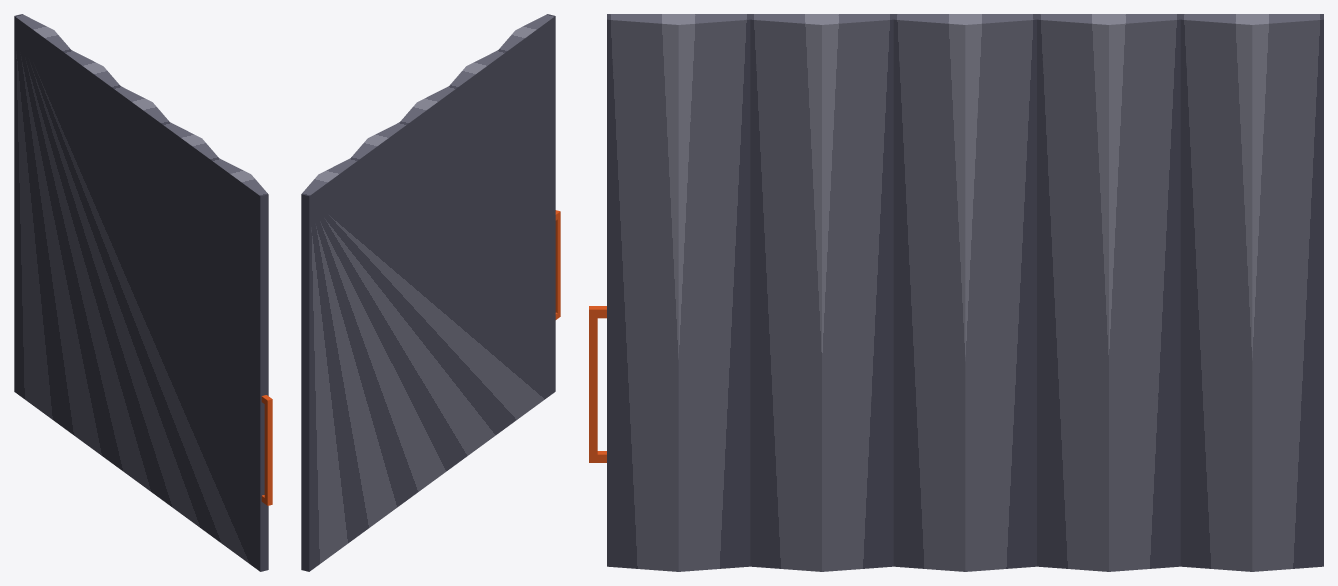
File: portonGalpon2.fbx
The picture shows the model from 3 angles, left to right: view 1: azimuth 30°, elevation 25°; view 2: azimuth 150°, elevation 25°; view 3: azimuth 270°, elevation 25°; orthographic projection. The views are drawn at different scales.
Parts seen in each view (by area): view 1: portonGalpon2; view 2: portonGalpon2; view 3: portonGalpon2.
Part boxes in pixels (bbox=[...]): portonGalpon2: bbox=[14, 14, 272, 571]; portonGalpon2: bbox=[301, 14, 560, 571]; portonGalpon2: bbox=[589, 14, 1323, 571].
Size of the model in its own units: 29.06 by 673 by 820.
